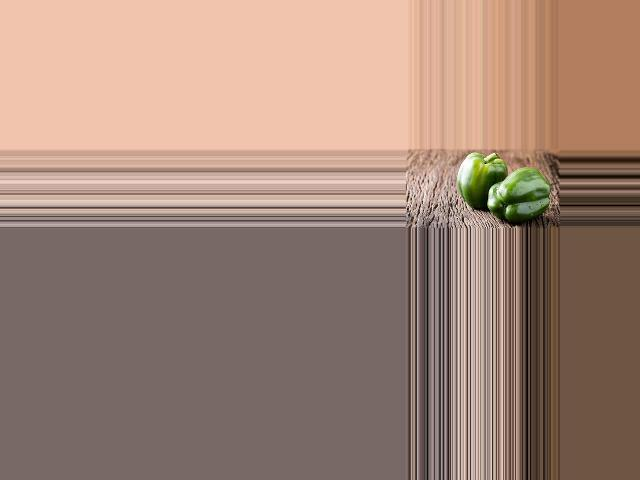bell_pepper: (484, 166, 549, 220)
